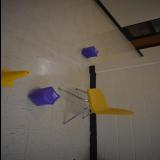cone: (0, 69, 29, 86)
cube: (27, 86, 60, 106), (80, 46, 98, 59)
